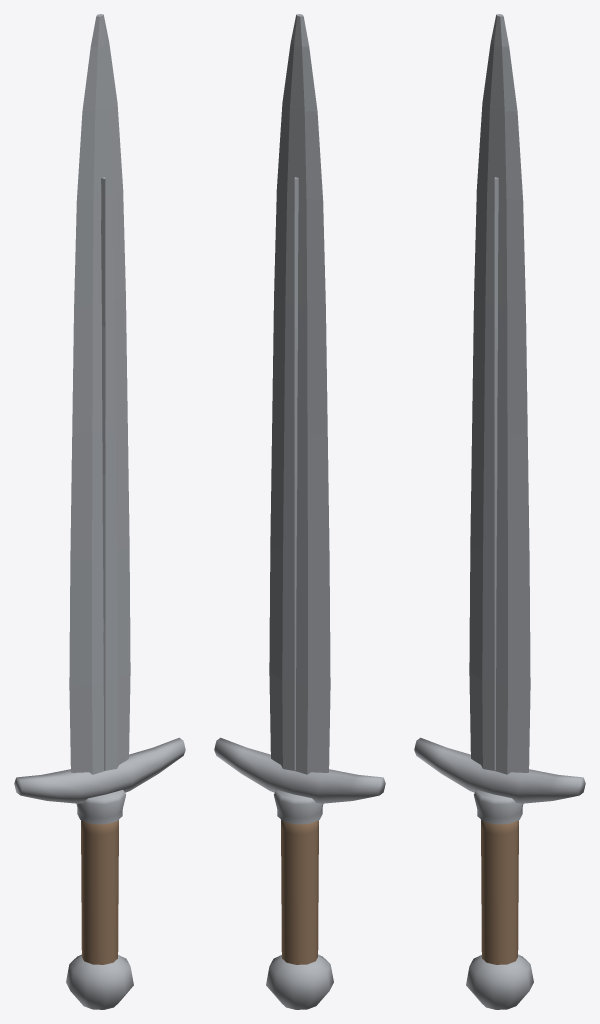
Rendered from wpn_iron_sword.glb.
3 views of the same model, side by side, from view 1: azimuth 30°, elevation 25°; view 2: azimuth 150°, elevation 25°; view 3: azimuth 330°, elevation 25° (orthographic).
Visible parts, largest first — view 1: wpn_iron_sword; view 2: wpn_iron_sword; view 3: wpn_iron_sword.
Part boxes in pixels (x1,y1,x2,y2): wpn_iron_sword: (14,14,185,1009); wpn_iron_sword: (214,14,385,1009); wpn_iron_sword: (414,14,585,1009).
Bounding box in the file's own units: 0.176 × 1.02 × 0.0609.
